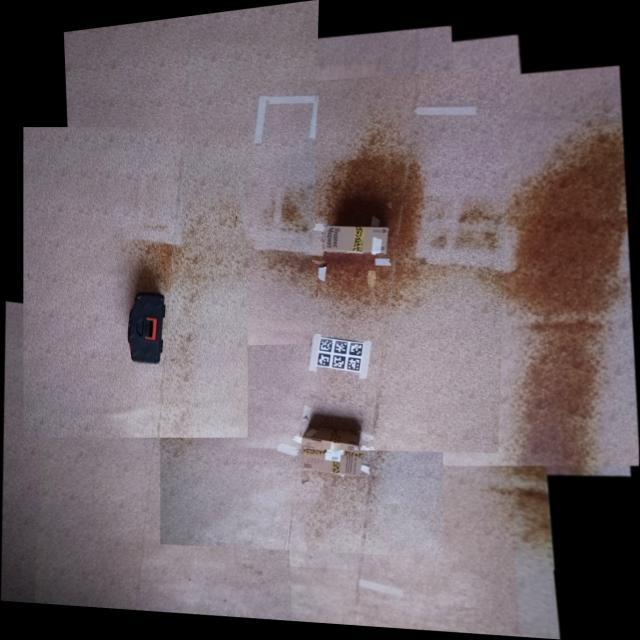boxes: (301, 424, 366, 479), (126, 289, 166, 363), (321, 226, 389, 254)
goal: (315, 336, 367, 374)
